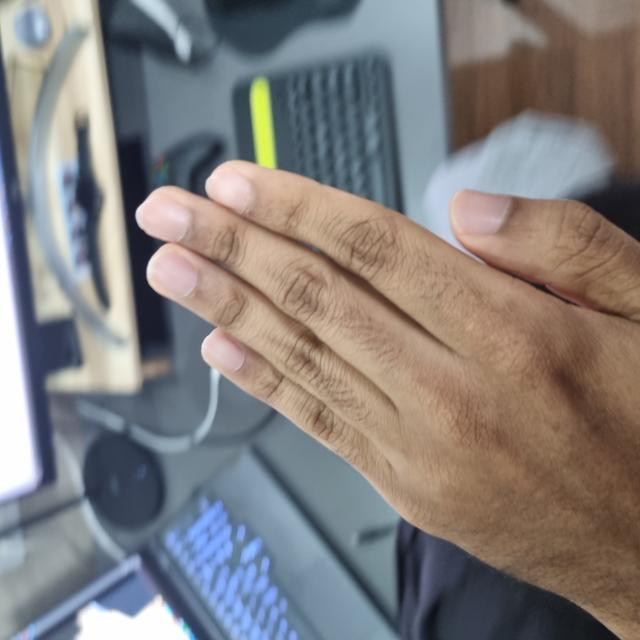Paper: (13, 135, 480, 639)
